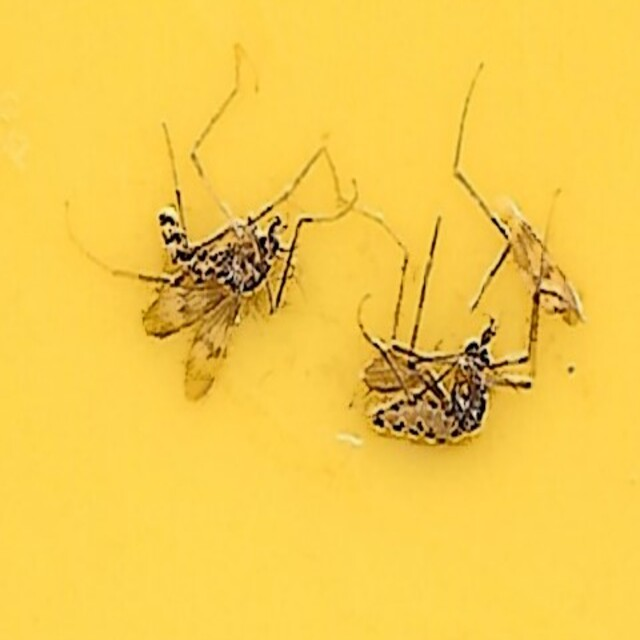Nematocera: (133, 187, 299, 405), (351, 325, 507, 453)
